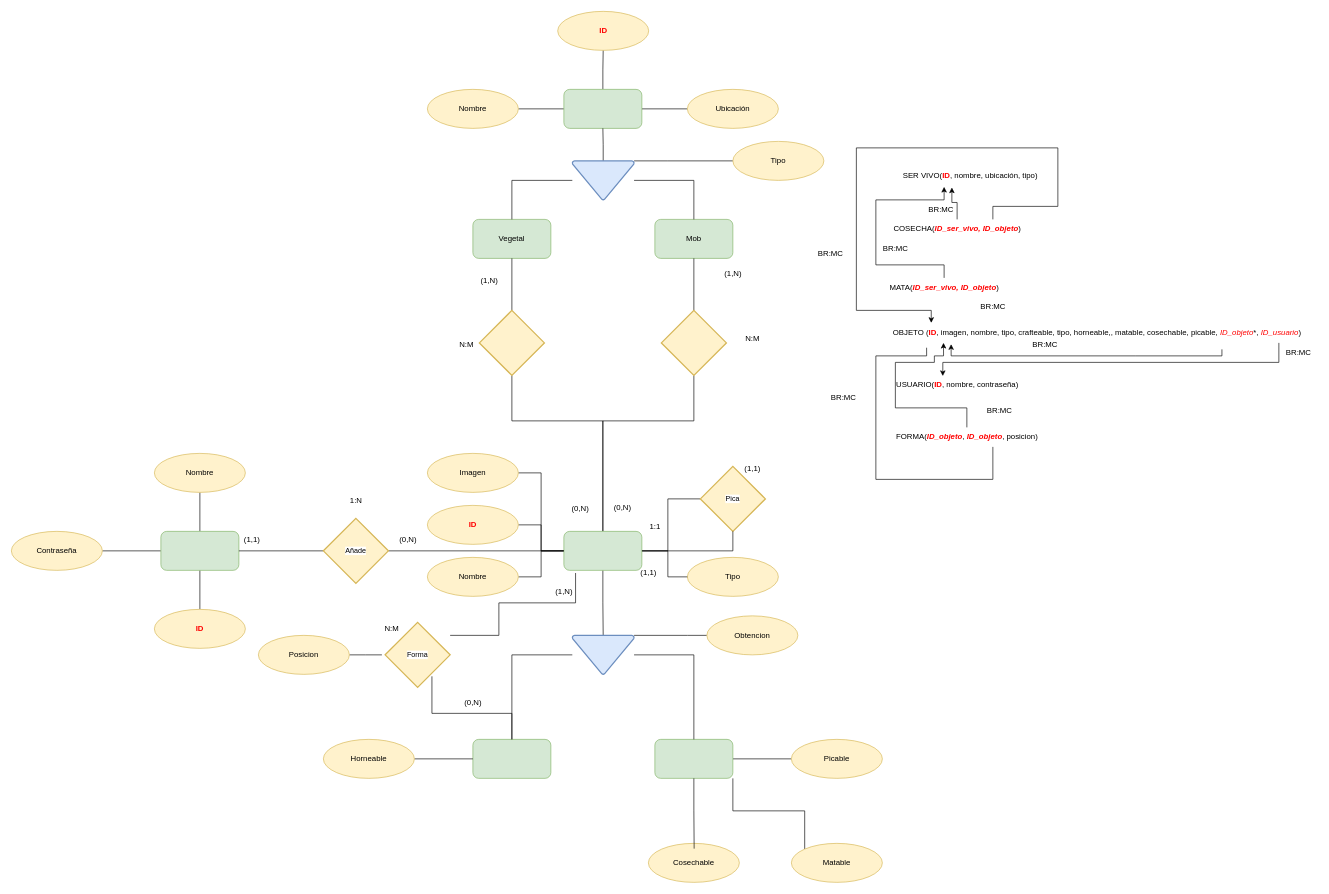
Image size: 1329x894. Some labels were removed from this diagram. The shapes that lost their labels are listed below. From the top down, each one's centre as x and y in pixels, then its label:
At (602,108): "Ser vivo".
At (511,342): "Cosecha".
At (693,342): "Mata".
At (199,550): "Usuario".
At (602,550): "Objeto".
At (511,758): "Crafteable".
At (693,758): "No crafteable".
